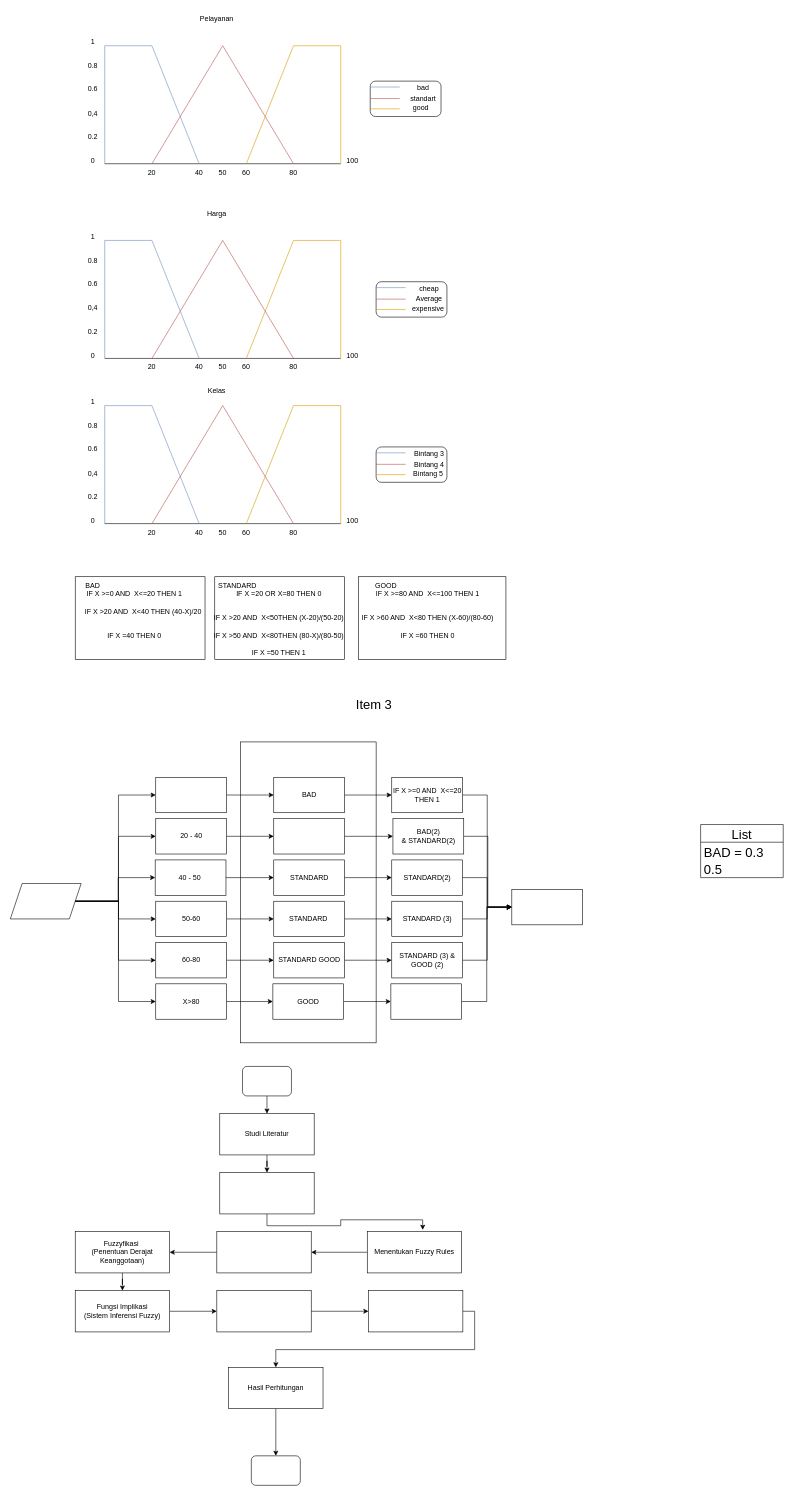
The diagram is 794 pixels wide and 1496 high, and some of its shapes have lost their labels. The centre of each missing label's shape, as x and y in pixels:
"BAD & STANDARD" belongs at point 309,836.
"CRISP INPUT" belongs at point 45,901.
"CRISP OUTPUT BAD = ? STANDARD = ? GOOD = ?" belongs at point 547,907.
"GOOD(1)" belongs at point 426,1001.
"Komposisi Antar Aturan" belongs at point 263,1311.
"Mulai" belongs at point 266,1081.
"Penegasan (Defuzyfikasi)" belongs at point 415,1311.
"Penentuan Himpunan Fuzzy" belongs at point 263,1252.
"Pengumpulan Data" belongs at point 266,1193.
"Selesai" belongs at point 275,1470.
"X < 20" belongs at point 191,795.
